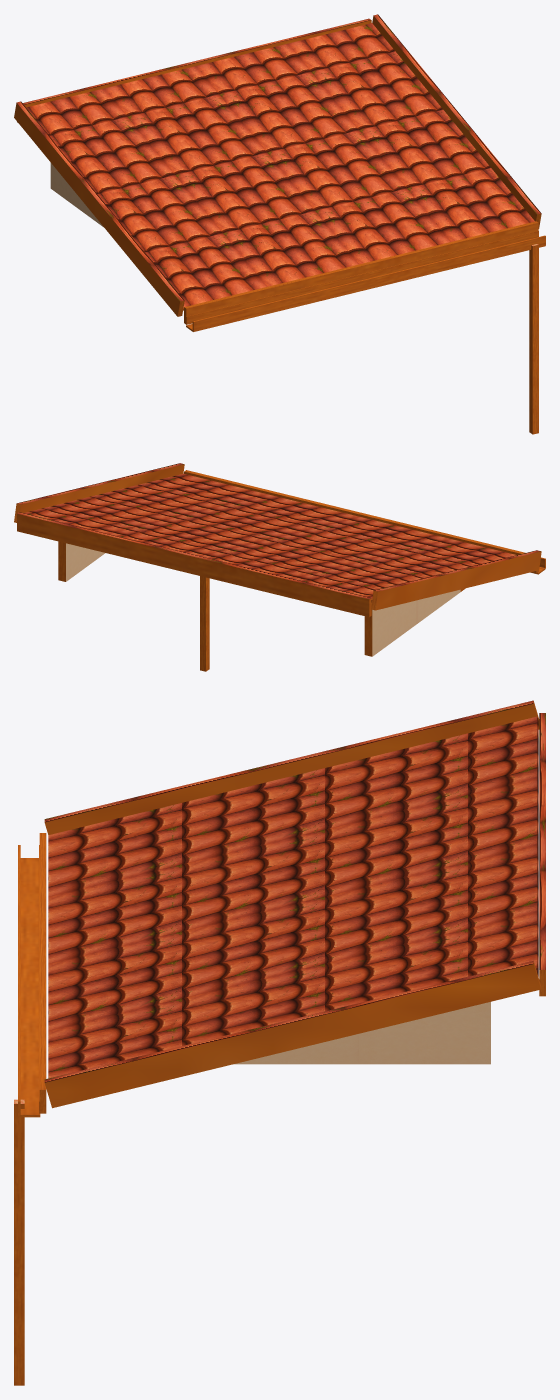
The model's file is Roof_Shed_4x3.fbx.
The picture shows the model from 3 angles, top to bottom: view 1: azimuth 30°, elevation 25°; view 2: azimuth 150°, elevation 25°; view 3: azimuth 270°, elevation 25°; orthographic projection. The views are drawn at different scales.
Visible parts, largest first — view 1: Roof_Shed_4x3; view 2: Roof_Shed_4x3; view 3: Roof_Shed_4x3.
Part boxes in pixels (x1,y1,x2,y2): Roof_Shed_4x3: [14, 14, 545, 434]; Roof_Shed_4x3: [14, 463, 545, 671]; Roof_Shed_4x3: [14, 700, 545, 1385].
Size of the model in its own units: 4.72 by 3.6 by 4.02.
